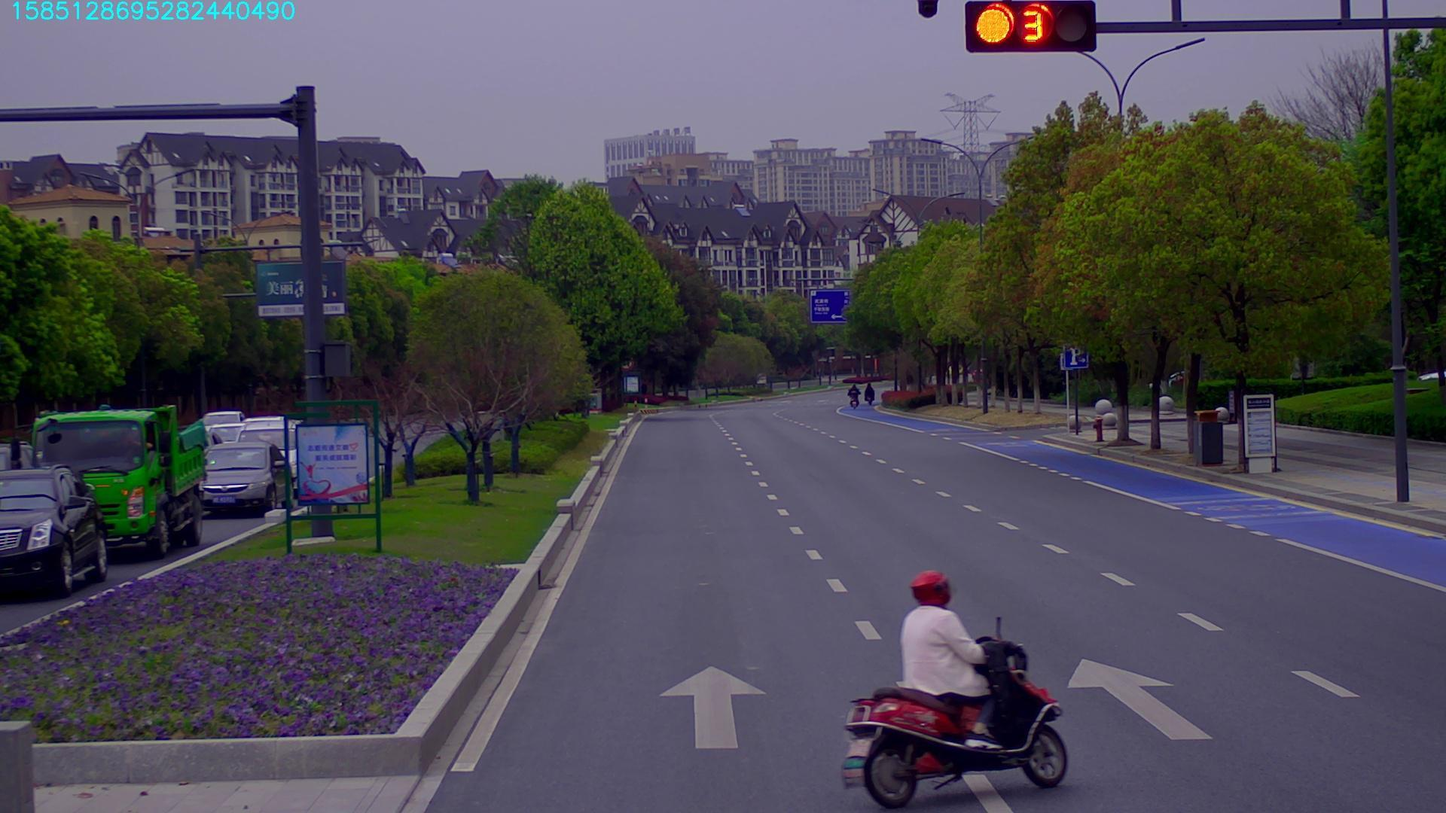red: (968, 9, 1094, 54)
